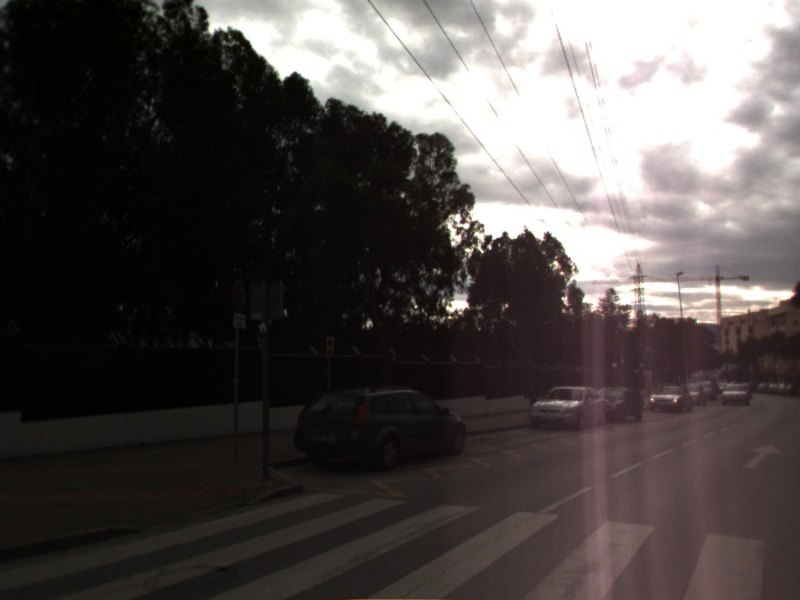STRAIGHT: (741, 442, 785, 471)
